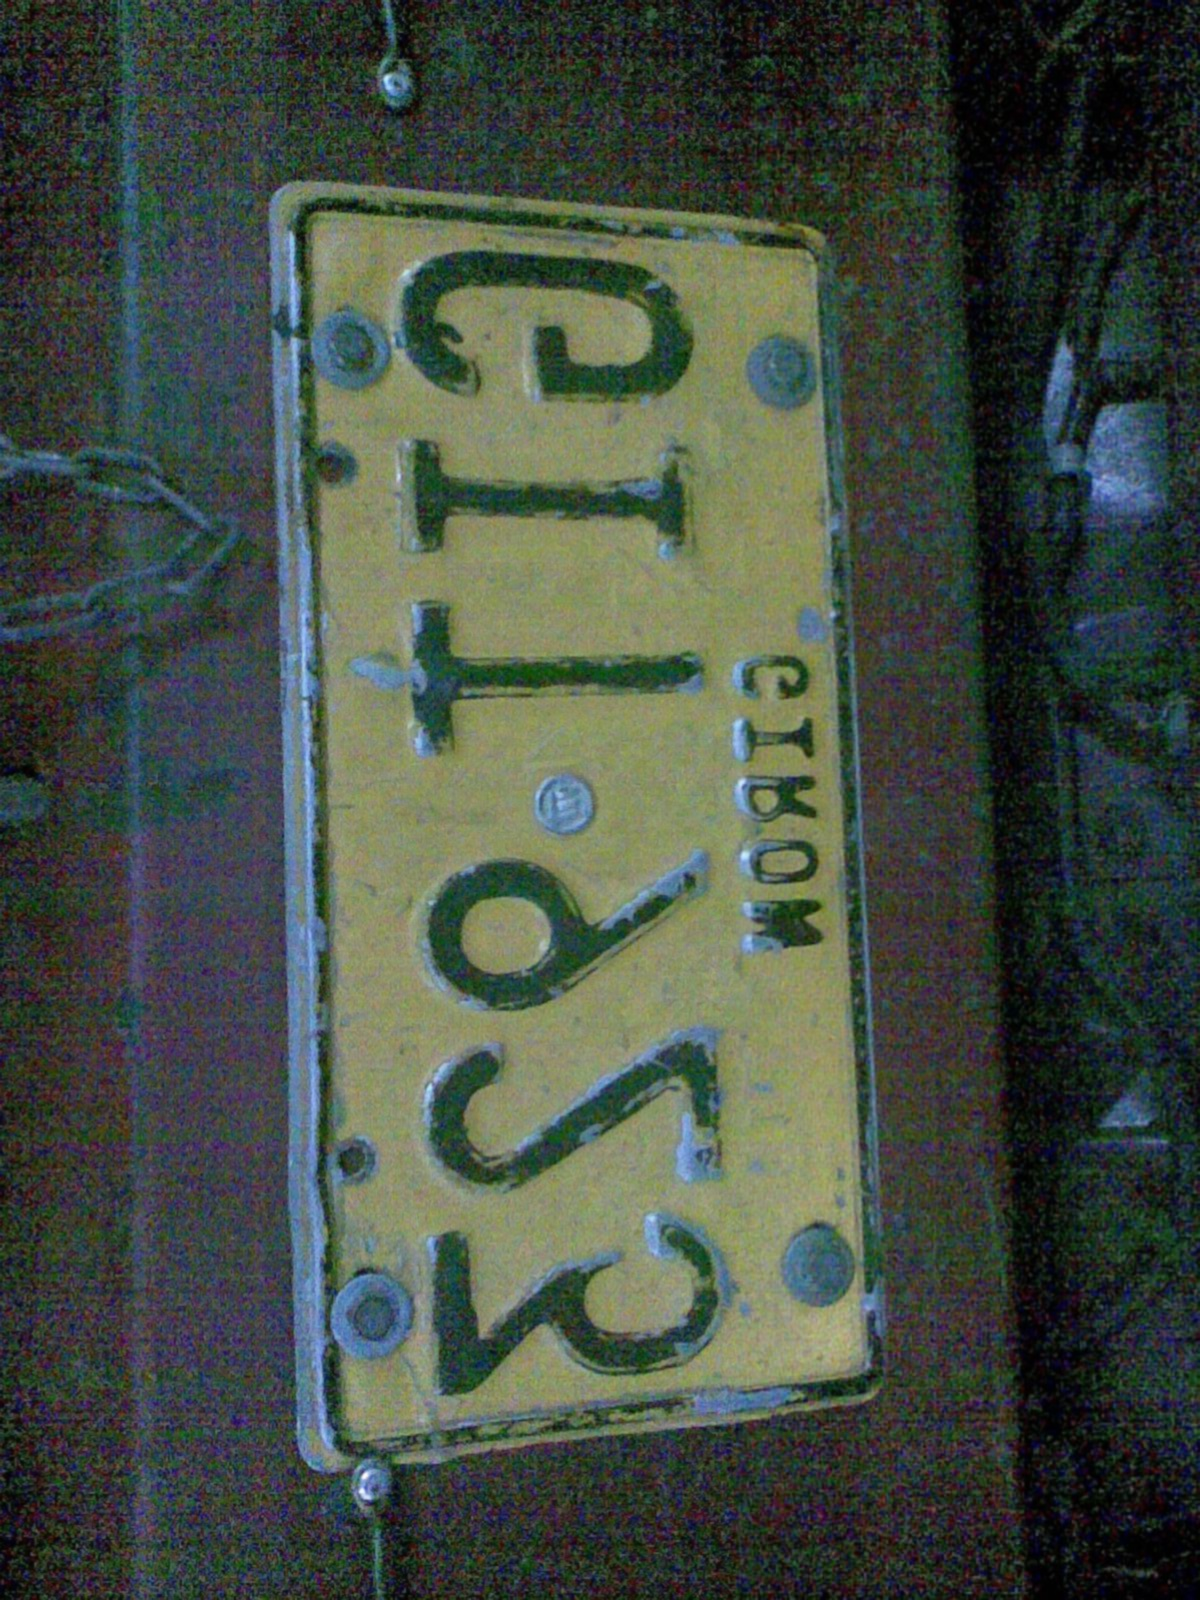placas: (261, 146, 903, 1489)
